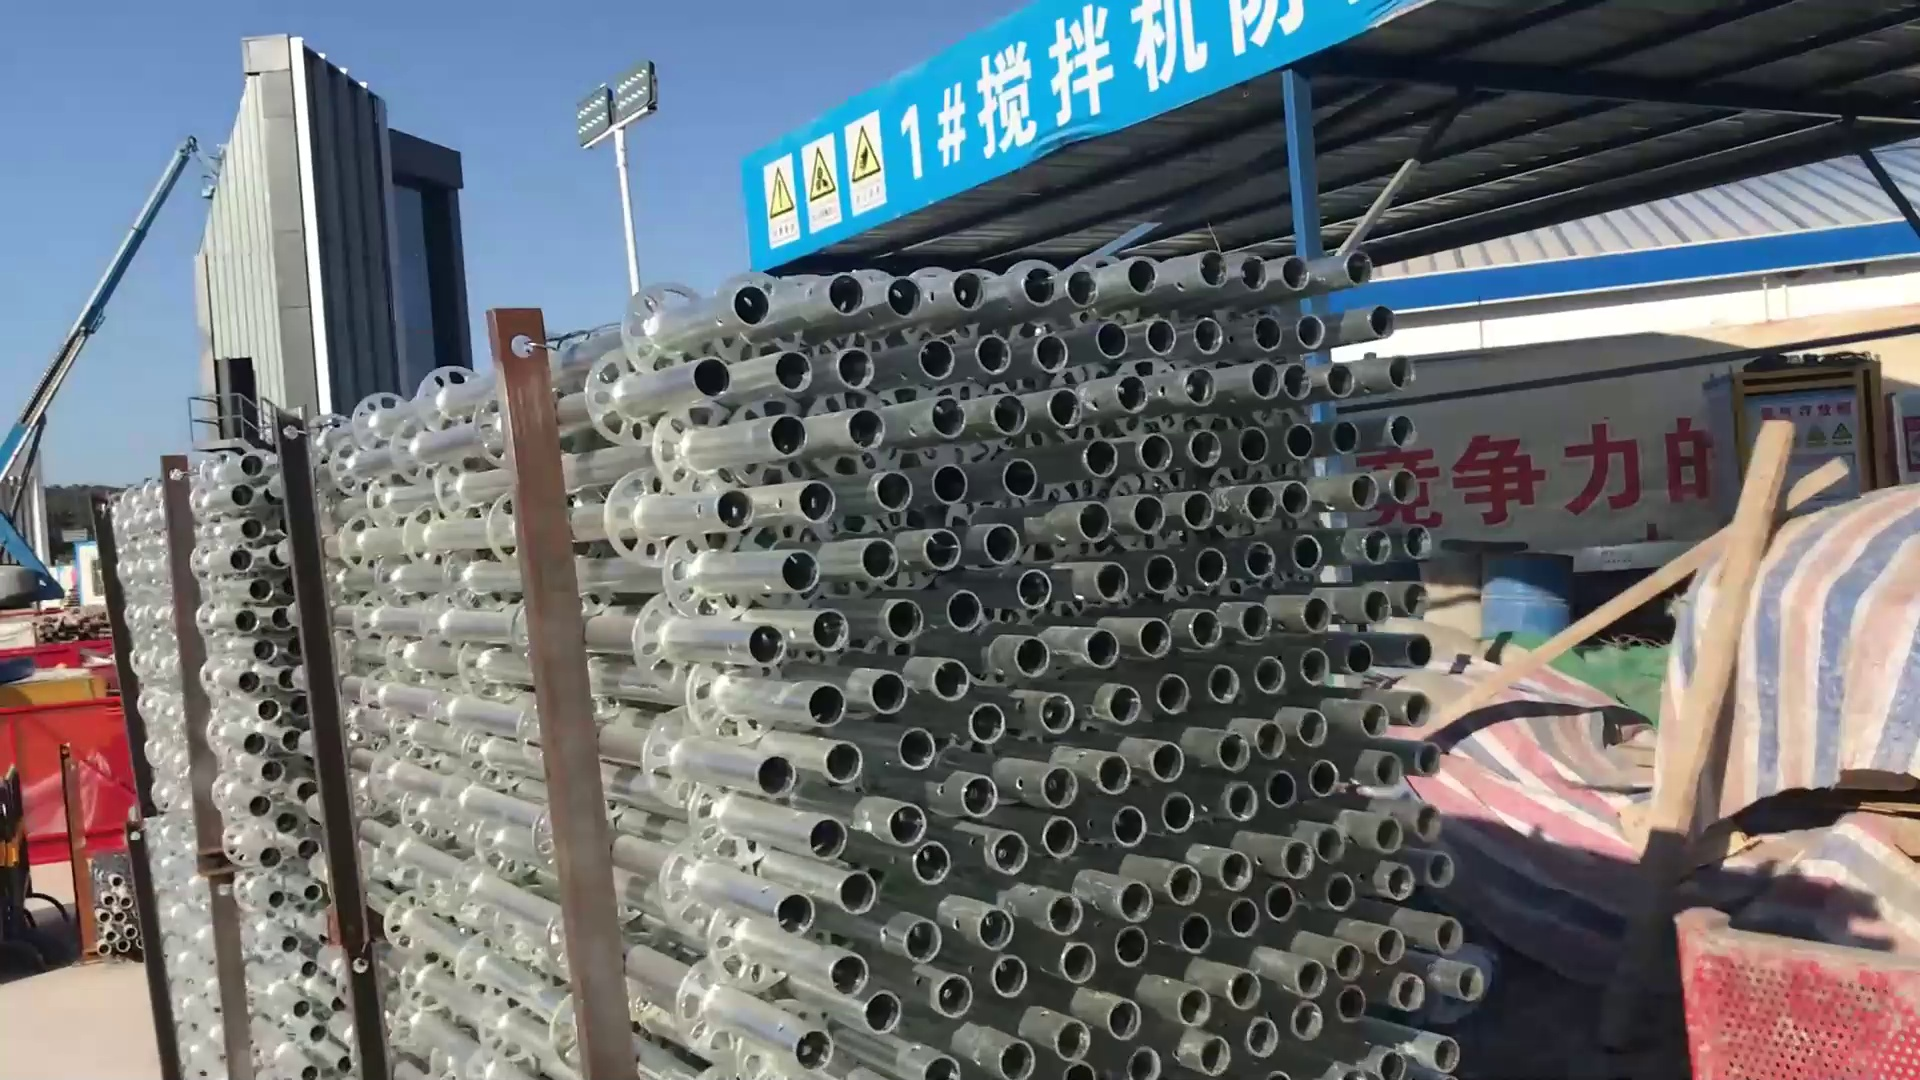fence: (1683, 895, 1920, 1080), (1, 695, 135, 849), (1, 782, 66, 965)
scaffold: (104, 265, 1481, 1080)
slogan: (746, 112, 894, 256)
